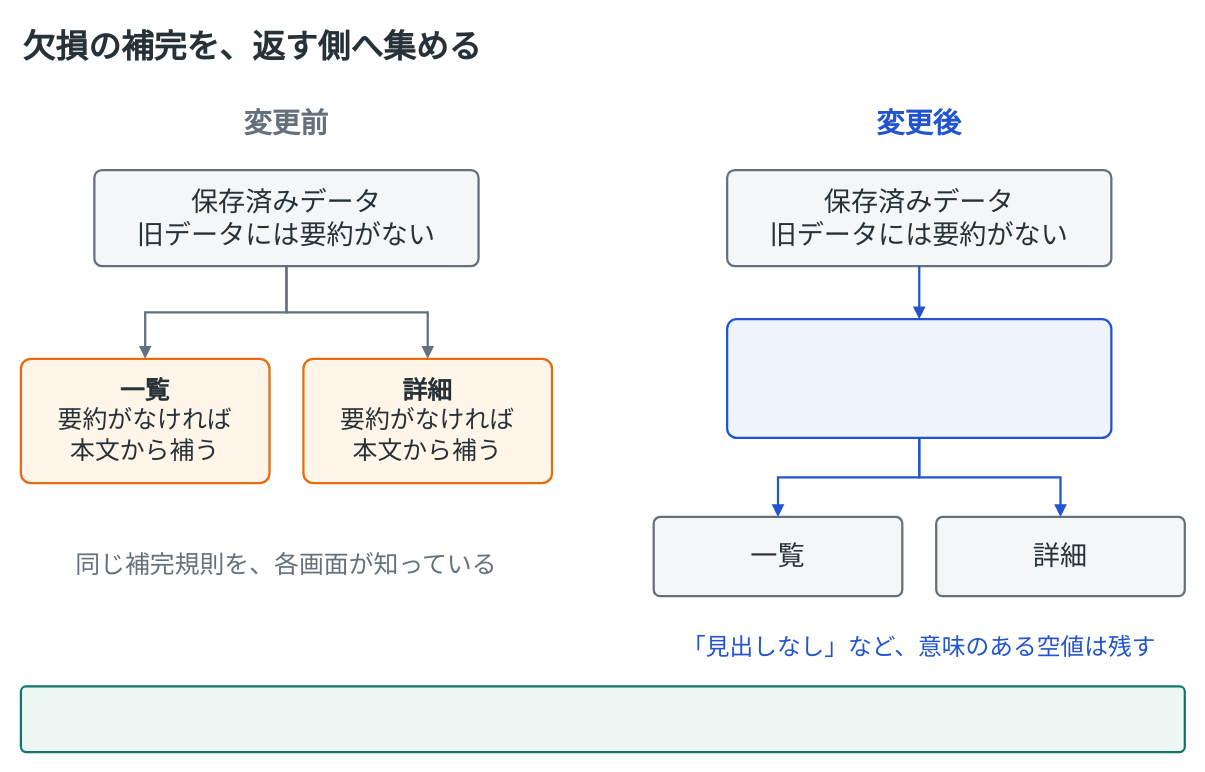
Image size: 1205x772. Some labels were removed from this diagram. The box of each missing label's shape, as (x1, y1, x2, y2) in pixels:
利用側を増やすとき、旧データの補完方法を覚える必要がなくなる: (19, 685, 1185, 753)
返す値を作る 要約の欠損を補う: (725, 318, 1112, 438)
